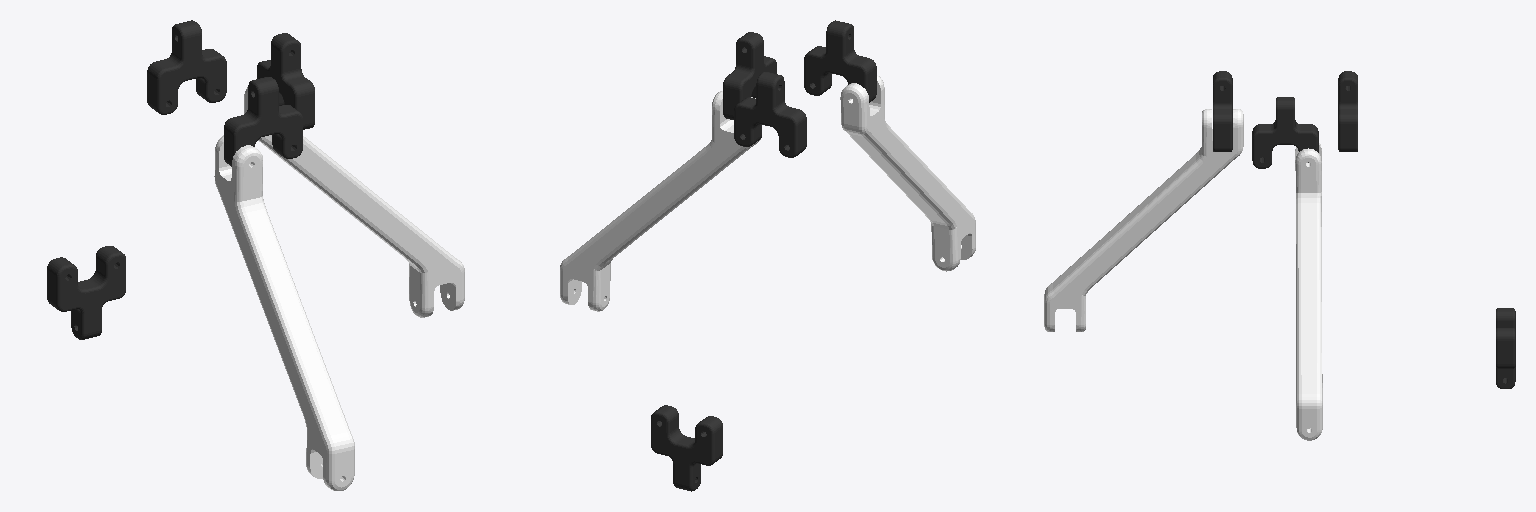
The robot description file, URDF, robot "blue-body":
<?xml version="1.0" encoding="utf-8"?>
<!-- This URDF was automatically created by SolidWorks to URDF Exporter! Originally created by [author] ([email redacted]) 
     Commit Version: 1.6.0-1-g15f4949  Build Version: 1.6.7594.29634
     For more information, please see http://wiki.ros.org/sw_urdf_exporter -->
<robot
  name="blue-body">
  <link
    name="base_link">
    <inertial>
      <origin
        xyz="0.00018086 0.0010067 0.018019"
        rpy="0 0 0" />
      <mass
        value="0.22207" />
      <inertia
        ixx="0.00013052"
        ixy="2.0278E-08"
        ixz="4.1118E-07"
        iyy="0.00024183"
        iyz="-1.5117E-06"
        izz="0.00033067" />
    </inertial>
    <visual>
      <origin
        xyz="0 0 0"
        rpy="0 0 0" />
      <geometry>
        <mesh
          filename="package://blue-body/meshes/base_link.STL" />
      </geometry>
      <material
        name="">
        <color
          rgba="0.75294 0.75294 0.75294 1" />
      </material>
    </visual>
    <collision>
      <origin
        xyz="0 0 0"
        rpy="0 0 0" />
      <geometry>
        <mesh
          filename="package://blue-body/meshes/base_link.STL" />
      </geometry>
    </collision>
  </link>
  <link
    name="Link11">
    <inertial>
      <origin
        xyz="0.0346 0.003463 -3.2848E-11"
        rpy="0 0 0" />
      <mass
        value="0.016687" />
      <inertia
        ixx="2.7187E-06"
        ixy="-3.1124E-07"
        ixz="2.1472E-12"
        iyy="1.195E-05"
        iyz="4.8542E-13"
        izz="9.7666E-06" />
    </inertial>
    <visual>
      <origin
        xyz="0 0 0"
        rpy="0 0 0" />
      <geometry>
        <mesh
          filename="package://blue-body/meshes/Link11.STL" />
      </geometry>
      <material
        name="">
        <color
          rgba="1 1 1 1" />
      </material>
    </visual>
    <collision>
      <origin
        xyz="0 0 0"
        rpy="0 0 0" />
      <geometry>
        <mesh
          filename="package://blue-body/meshes/Link11.STL" />
      </geometry>
    </collision>
  </link>
  <joint
    name="Joint11"
    type="revolute">
    <origin
      xyz="0.0279 -0.0395 0.040325"
      rpy="1.5708 -0.93181 -1.5708" />
    <parent
      link="base_link" />
    <child
      link="Link11" />
    <axis
      xyz="0 0 -1" />
    <limit
      lower="-0.785"
      upper="0.785"
      effort="100"
      velocity="10" />
  </joint>
  <link
    name="Link21">
    <inertial>
      <origin
        xyz="0.011918 0 3.4694E-18"
        rpy="0 0 0" />
      <mass
        value="0.0028359" />
      <inertia
        ixx="1.5845E-07"
        ixy="2.8852E-24"
        ixz="1.5528E-24"
        iyy="2.6992E-07"
        iyz="2.7808E-24"
        izz="1.3803E-07" />
    </inertial>
    <visual>
      <origin
        xyz="0 0 0"
        rpy="0 0 0" />
      <geometry>
        <mesh
          filename="package://blue-body/meshes/Link21.STL" />
      </geometry>
      <material
        name="">
        <color
          rgba="0.25098 0.25098 0.25098 1" />
      </material>
    </visual>
    <collision>
      <origin
        xyz="0 0 0"
        rpy="0 0 0" />
      <geometry>
        <mesh
          filename="package://blue-body/meshes/Link21.STL" />
      </geometry>
    </collision>
  </link>
  <joint
    name="Joint21"
    type="revolute">
    <origin
      xyz="0.08 0.004 0"
      rpy="0 0 0.63899" />
    <parent
      link="Link11" />
    <child
      link="Link21" />
    <axis
      xyz="0 0 1" />
    <limit
      lower="-1.57"
      upper="1.57"
      effort="100"
      velocity="10" />
  </joint>
  <link
    name="Link31">
    <inertial>
      <origin
        xyz="0.042 -8.405E-09 0.03"
        rpy="0 0 0" />
      <mass
        value="0.011548" />
      <inertia
        ixx="5.7245E-06"
        ixy="4.7958E-22"
        ixz="-6.0561E-06"
        iyy="1.2541E-05"
        iyz="1.766E-22"
        izz="6.9973E-06" />
    </inertial>
    <visual>
      <origin
        xyz="0 0 0"
        rpy="0 0 0" />
      <geometry>
        <mesh
          filename="package://blue-body/meshes/Link31.STL" />
      </geometry>
      <material
        name="">
        <color
          rgba="1 1 1 1" />
      </material>
    </visual>
    <collision>
      <origin
        xyz="0 0 0"
        rpy="0 0 0" />
      <geometry>
        <mesh
          filename="package://blue-body/meshes/Link31.STL" />
      </geometry>
    </collision>
  </link>
  <joint
    name="Joint31"
    type="revolute">
    <origin
      xyz="0.02 0 -0.0088"
      rpy="-1.5708 0.019311 0" />
    <parent
      link="Link21" />
    <child
      link="Link31" />
    <axis
      xyz="0 0 1" />
    <limit
      lower="-1.57"
      upper="1.57"
      effort="100"
      velocity="10" />
  </joint>
  <link
    name="Link41">
    <inertial>
      <origin
        xyz="0.0088 0.0080823 6.9389E-18"
        rpy="0 0 0" />
      <mass
        value="0.0028359" />
      <inertia
        ixx="1.3803E-07"
        ixy="1.3094E-23"
        ixz="-1.1423E-23"
        iyy="1.5845E-07"
        iyz="4.3716E-25"
        izz="2.6992E-07" />
    </inertial>
    <visual>
      <origin
        xyz="0 0 0"
        rpy="0 0 0" />
      <geometry>
        <mesh
          filename="package://blue-body/meshes/Link41.STL" />
      </geometry>
      <material
        name="">
        <color
          rgba="0.25098 0.25098 0.25098 1" />
      </material>
    </visual>
    <collision>
      <origin
        xyz="0 0 0"
        rpy="0 0 0" />
      <geometry>
        <mesh
          filename="package://blue-body/meshes/Link41.STL" />
      </geometry>
    </collision>
  </link>
  <joint
    name="Joint41"
    type="revolute">
    <origin
      xyz="0.084 0 0.06"
      rpy="0 0 -1.5901" />
    <parent
      link="Link31" />
    <child
      link="Link41" />
    <axis
      xyz="0 0 1" />
    <limit
      lower="-1.57"
      upper="1.57"
      effort="100"
      velocity="10" />
  </joint>
  <link
    name="Link32">
    <inertial>
      <origin
        xyz="0.042 -8.405E-09 0.03"
        rpy="0 0 0" />
      <mass
        value="0.011548" />
      <inertia
        ixx="5.7245E-06"
        ixy="1.2325E-21"
        ixz="-6.0561E-06"
        iyy="1.2541E-05"
        iyz="8.3314E-22"
        izz="6.9973E-06" />
    </inertial>
    <visual>
      <origin
        xyz="0 0 0"
        rpy="0 0 0" />
      <geometry>
        <mesh
          filename="package://blue-body/meshes/Link32.STL" />
      </geometry>
      <material
        name="">
        <color
          rgba="1 1 1 1" />
      </material>
    </visual>
    <collision>
      <origin
        xyz="0 0 0"
        rpy="0 0 0" />
      <geometry>
        <mesh
          filename="package://blue-body/meshes/Link32.STL" />
      </geometry>
    </collision>
  </link>
  <joint
    name="Joint32"
    type="revolute">
    <origin
      xyz="0.02 0 0.0088"
      rpy="-1.5708 0.019311 0" />
    <parent
      link="Link21" />
    <child
      link="Link32" />
    <axis
      xyz="0 0 1" />
    <limit
      lower="-1.57"
      upper="1.57"
      effort="100"
      velocity="10" />
  </joint>
  <link
    name="Link12">
    <inertial>
      <origin
        xyz="0.0346 0.003463 -3.2848E-11"
        rpy="0 0 0" />
      <mass
        value="0.016687" />
      <inertia
        ixx="2.7187E-06"
        ixy="-3.1124E-07"
        ixz="2.1472E-12"
        iyy="1.195E-05"
        iyz="4.8542E-13"
        izz="9.7666E-06" />
    </inertial>
    <visual>
      <origin
        xyz="0 0 0"
        rpy="0 0 0" />
      <geometry>
        <mesh
          filename="package://blue-body/meshes/Link12.STL" />
      </geometry>
      <material
        name="">
        <color
          rgba="1 1 1 1" />
      </material>
    </visual>
    <collision>
      <origin
        xyz="0 0 0"
        rpy="0 0 0" />
      <geometry>
        <mesh
          filename="package://blue-body/meshes/Link12.STL" />
      </geometry>
    </collision>
  </link>
  <joint
    name="Joint12"
    type="revolute">
    <origin
      xyz="0.0279 0.0395 0.040325"
      rpy="1.5708 -0.93181 1.5708" />
    <parent
      link="base_link" />
    <child
      link="Link12" />
    <axis
      xyz="0 0 -1" />
    <limit
      lower="-0.785"
      upper="0.785"
      effort="100"
      velocity="10" />
  </joint>
  <link
    name="Link22">
    <inertial>
      <origin
        xyz="0.011918 0 -3.4694E-18"
        rpy="0 0 0" />
      <mass
        value="0.0028359" />
      <inertia
        ixx="1.5845E-07"
        ixy="-6.9439E-24"
        ixz="-1.8817E-23"
        iyy="2.6992E-07"
        iyz="-2.0856E-24"
        izz="1.3803E-07" />
    </inertial>
    <visual>
      <origin
        xyz="0 0 0"
        rpy="0 0 0" />
      <geometry>
        <mesh
          filename="package://blue-body/meshes/Link22.STL" />
      </geometry>
      <material
        name="">
        <color
          rgba="0.25098 0.25098 0.25098 1" />
      </material>
    </visual>
    <collision>
      <origin
        xyz="0 0 0"
        rpy="0 0 0" />
      <geometry>
        <mesh
          filename="package://blue-body/meshes/Link22.STL" />
      </geometry>
    </collision>
  </link>
  <joint
    name="Joint22"
    type="revolute">
    <origin
      xyz="0.08 0.004 0"
      rpy="0 0 0.63899" />
    <parent
      link="Link12" />
    <child
      link="Link22" />
    <axis
      xyz="0 0 -1" />
    <limit
      lower="-1.57"
      upper="1.57"
      effort="100"
      velocity="10" />
  </joint>
  <link
    name="Link33">
    <inertial>
      <origin
        xyz="0.042 -8.405E-09 0.03"
        rpy="0 0 0" />
      <mass
        value="0.011548" />
      <inertia
        ixx="5.7245E-06"
        ixy="2.1919E-22"
        ixz="-6.0561E-06"
        iyy="1.2541E-05"
        iyz="-3.2842E-22"
        izz="6.9973E-06" />
    </inertial>
    <visual>
      <origin
        xyz="0 0 0"
        rpy="0 0 0" />
      <geometry>
        <mesh
          filename="package://blue-body/meshes/Link33.STL" />
      </geometry>
      <material
        name="">
        <color
          rgba="1 1 1 1" />
      </material>
    </visual>
    <collision>
      <origin
        xyz="0 0 0"
        rpy="0 0 0" />
      <geometry>
        <mesh
          filename="package://blue-body/meshes/Link33.STL" />
      </geometry>
    </collision>
  </link>
  <joint
    name="Joint33"
    type="revolute">
    <origin
      xyz="0.02 0 -0.0088"
      rpy="-1.5708 -0.019311 0" />
    <parent
      link="Link22" />
    <child
      link="Link33" />
    <axis
      xyz="0 0 1" />
    <limit
      lower="-1.57"
      upper="1.57"
      effort="100"
      velocity="10" />
  </joint>
  <link
    name="Link42">
    <inertial>
      <origin
        xyz="0.0088 0.0080823 3.8164E-17"
        rpy="0 0 0" />
      <mass
        value="0.0028359" />
      <inertia
        ixx="1.3803E-07"
        ixy="-1.559E-23"
        ixz="-5.6003E-22"
        iyy="1.5845E-07"
        iyz="1.2132E-24"
        izz="2.6992E-07" />
    </inertial>
    <visual>
      <origin
        xyz="0 0 0"
        rpy="0 0 0" />
      <geometry>
        <mesh
          filename="package://blue-body/meshes/Link42.STL" />
      </geometry>
      <material
        name="">
        <color
          rgba="0.25098 0.25098 0.25098 1" />
      </material>
    </visual>
    <collision>
      <origin
        xyz="0 0 0"
        rpy="0 0 0" />
      <geometry>
        <mesh
          filename="package://blue-body/meshes/Link42.STL" />
      </geometry>
    </collision>
  </link>
  <joint
    name="Joint42"
    type="revolute">
    <origin
      xyz="0.084 0 0.06"
      rpy="0 0 -1.5515" />
    <parent
      link="Link33" />
    <child
      link="Link42" />
    <axis
      xyz="0 0 1" />
    <limit
      lower="-1.57"
      upper="1.57"
      effort="100"
      velocity="10" />
  </joint>
  <link
    name="Link34">
    <inertial>
      <origin
        xyz="0.042 -8.405E-09 0.03"
        rpy="0 0 0" />
      <mass
        value="0.011548" />
      <inertia
        ixx="5.7245E-06"
        ixy="-1.7679E-22"
        ixz="-6.0561E-06"
        iyy="1.2541E-05"
        iyz="7.6947E-26"
        izz="6.9973E-06" />
    </inertial>
    <visual>
      <origin
        xyz="0 0 0"
        rpy="0 0 0" />
      <geometry>
        <mesh
          filename="package://blue-body/meshes/Link34.STL" />
      </geometry>
      <material
        name="">
        <color
          rgba="1 1 1 1" />
      </material>
    </visual>
    <collision>
      <origin
        xyz="0 0 0"
        rpy="0 0 0" />
      <geometry>
        <mesh
          filename="package://blue-body/meshes/Link34.STL" />
      </geometry>
    </collision>
  </link>
  <joint
    name="Joint34"
    type="revolute">
    <origin
      xyz="0.02 0 0.0088"
      rpy="-1.5708 -0.019311 0" />
    <parent
      link="Link22" />
    <child
      link="Link34" />
    <axis
      xyz="0 0 1" />
    <limit
      lower="-1.57"
      upper="1.57"
      effort="100"
      velocity="10" />
  </joint>
  <link
    name="Link13">
    <inertial>
      <origin
        xyz="0.0346 0.003463 -3.2753E-11"
        rpy="0 0 0" />
      <mass
        value="0.016687" />
      <inertia
        ixx="2.7187E-06"
        ixy="-3.1124E-07"
        ixz="2.1472E-12"
        iyy="1.195E-05"
        iyz="4.8542E-13"
        izz="9.7666E-06" />
    </inertial>
    <visual>
      <origin
        xyz="0 0 0"
        rpy="0 0 0" />
      <geometry>
        <mesh
          filename="package://blue-body/meshes/Link13.STL" />
      </geometry>
      <material
        name="">
        <color
          rgba="1 1 1 1" />
      </material>
    </visual>
    <collision>
      <origin
        xyz="0 0 0"
        rpy="0 0 0" />
      <geometry>
        <mesh
          filename="package://blue-body/meshes/Link13.STL" />
      </geometry>
    </collision>
  </link>
  <joint
    name="Joint13"
    type="revolute">
    <origin
      xyz="0.067 0.0004 0.040325"
      rpy="1.5708 -0.93148 0" />
    <parent
      link="base_link" />
    <child
      link="Link13" />
    <axis
      xyz="0 0 -1" />
    <limit
      lower="-0.785"
      upper="0.785"
      effort="100"
      velocity="10" />
  </joint>
  <link
    name="Link23">
    <inertial>
      <origin
        xyz="0.011918 0 -3.7947E-19"
        rpy="0 0 0" />
      <mass
        value="0.0028359" />
      <inertia
        ixx="1.5845E-07"
        ixy="-4.1596E-24"
        ixz="5.6766E-24"
        iyy="2.6992E-07"
        iyz="-6.0878E-24"
        izz="1.3803E-07" />
    </inertial>
    <visual>
      <origin
        xyz="0 0 0"
        rpy="0 0 0" />
      <geometry>
        <mesh
          filename="package://blue-body/meshes/Link23.STL" />
      </geometry>
      <material
        name="">
        <color
          rgba="0.25098 0.25098 0.25098 1" />
      </material>
    </visual>
    <collision>
      <origin
        xyz="0 0 0"
        rpy="0 0 0" />
      <geometry>
        <mesh
          filename="package://blue-body/meshes/Link23.STL" />
      </geometry>
    </collision>
  </link>
  <joint
    name="Joint23"
    type="revolute">
    <origin
      xyz="0.08 0.004 0"
      rpy="0 0 0.63932" />
    <parent
      link="Link13" />
    <child
      link="Link23" />
    <axis
      xyz="0 0 1" />
    <limit
      lower="-1.57"
      upper="1.57"
      effort="100"
      velocity="10" />
  </joint>
  <link
    name="Link35">
    <inertial>
      <origin
        xyz="0.042 -8.405E-09 0.03"
        rpy="0 0 0" />
      <mass
        value="0.011548" />
      <inertia
        ixx="5.7245E-06"
        ixy="2.7297E-22"
        ixz="-6.0561E-06"
        iyy="1.2541E-05"
        iyz="2.7415E-22"
        izz="6.9973E-06" />
    </inertial>
    <visual>
      <origin
        xyz="0 0 0"
        rpy="0 0 0" />
      <geometry>
        <mesh
          filename="package://blue-body/meshes/Link35.STL" />
      </geometry>
      <material
        name="">
        <color
          rgba="1 1 1 1" />
      </material>
    </visual>
    <collision>
      <origin
        xyz="0 0 0"
        rpy="0 0 0" />
      <geometry>
        <mesh
          filename="package://blue-body/meshes/Link35.STL" />
      </geometry>
    </collision>
  </link>
  <joint
    name="Joint35"
    type="revolute">
    <origin
      xyz="0.02 0 -0.0088"
      rpy="-1.5708 -0.0047619 0" />
    <parent
      link="Link23" />
    <child
      link="Link35" />
    <axis
      xyz="0 0 1" />
    <limit
      lower="-1.57"
      upper="1.57"
      effort="100"
      velocity="10" />
  </joint>
  <link
    name="Link43">
    <inertial>
      <origin
        xyz="0.0088 0.0080823 0"
        rpy="0 0 0" />
      <mass
        value="0.0028359" />
      <inertia
        ixx="1.3803E-07"
        ixy="-9.4725E-23"
        ixz="1.405E-24"
        iyy="1.5845E-07"
        iyz="-1.2325E-25"
        izz="2.6992E-07" />
    </inertial>
    <visual>
      <origin
        xyz="0 0 0"
        rpy="0 0 0" />
      <geometry>
        <mesh
          filename="package://blue-body/meshes/Link43.STL" />
      </geometry>
      <material
        name="">
        <color
          rgba="0.25098 0.25098 0.25098 1" />
      </material>
    </visual>
    <collision>
      <origin
        xyz="0 0 0"
        rpy="0 0 0" />
      <geometry>
        <mesh
          filename="package://blue-body/meshes/Link43.STL" />
      </geometry>
    </collision>
  </link>
  <joint
    name="Joint43"
    type="revolute">
    <origin
      xyz="0.084 0 0.06"
      rpy="0 0 -1.566" />
    <parent
      link="Link35" />
    <child
      link="Link43" />
    <axis
      xyz="0 0 1" />
    <limit
      lower="-1.57"
      upper="1.57"
      effort="100"
      velocity="10" />
  </joint>
  <link
    name="Link36">
    <inertial>
      <origin
        xyz="0.042 -8.405E-09 0.03"
        rpy="0 0 0" />
      <mass
        value="0.011548" />
      <inertia
        ixx="5.7245E-06"
        ixy="-4.1028E-22"
        ixz="-6.0561E-06"
        iyy="1.2541E-05"
        iyz="6.5106E-23"
        izz="6.9973E-06" />
    </inertial>
    <visual>
      <origin
        xyz="0 0 0"
        rpy="0 0 0" />
      <geometry>
        <mesh
          filename="package://blue-body/meshes/Link36.STL" />
      </geometry>
      <material
        name="">
        <color
          rgba="1 1 1 1" />
      </material>
    </visual>
    <collision>
      <origin
        xyz="0 0 0"
        rpy="0 0 0" />
      <geometry>
        <mesh
          filename="package://blue-body/meshes/Link36.STL" />
      </geometry>
    </collision>
  </link>
  <joint
    name="Joint36"
    type="revolute">
    <origin
      xyz="0.02 0 0.0088"
      rpy="-1.5708 -0.0047619 0" />
    <parent
      link="Link23" />
    <child
      link="Link36" />
    <axis
      xyz="0 0 1" />
    <limit
      lower="-1.57"
      upper="1.57"
      effort="100"
      velocity="10" />
  </joint>
</robot>

--- What the picture shows (computed from the rendered views, not written in the file) ---
The picture shows the robot from 3 angles, left to right: view 1: azimuth 30°, elevation 25°; view 2: azimuth 150°, elevation 25°; view 3: azimuth 270°, elevation 25°; orthographic projection.
Robot: blue-body — 16 links, 15 joints (15 revolute); root link base_link; default pose: all joints at 0.
Visible links, largest first — view 1: Link32, Link35, Link42, Link22, Link41, Link43; view 2: Link35, Link32, Link42, Link22, Link41, Link43; view 3: Link32, Link35, Link43, Link22, Link41, Link42.
Boxes of the visible links, left/top/right/bottom form: Link32: left=214, top=135, right=354, bottom=490; Link35: left=244, top=87, right=464, bottom=317; Link42: left=147, top=20, right=226, bottom=114; Link22: left=47, top=246, right=125, bottom=339; Link41: left=224, top=77, right=302, bottom=166; Link43: left=257, top=33, right=314, bottom=129; Link35: left=560, top=91, right=760, bottom=311; Link32: left=840, top=75, right=975, bottom=271; Link42: left=734, top=72, right=806, bottom=157; Link22: left=651, top=405, right=722, bottom=491; Link41: left=804, top=20, right=876, bottom=102; Link43: left=723, top=32, right=776, bottom=119; Link32: left=1044, top=109, right=1243, bottom=331; Link35: left=1295, top=143, right=1322, bottom=440; Link43: left=1252, top=97, right=1318, bottom=168; Link22: left=1496, top=308, right=1515, bottom=388; Link41: left=1213, top=71, right=1232, bottom=151; Link42: left=1338, top=71, right=1357, bottom=151.
Bounding box of the posed robot: 0.1054 × 0.1798 × 0.132 m (x, y, z).
6 mesh visuals loaded from 16 distinct referenced files (6 binary STL); not drawn: 10 (reference not matched to a file when rendering).